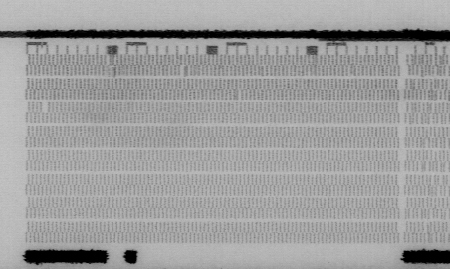Broken hole: (39, 102, 51, 114)
Oblique printing: (414, 54, 450, 103), (416, 161, 450, 186), (421, 220, 450, 243), (427, 206, 450, 220), (103, 52, 120, 67), (177, 64, 190, 78), (424, 101, 437, 115), (232, 89, 242, 100)
